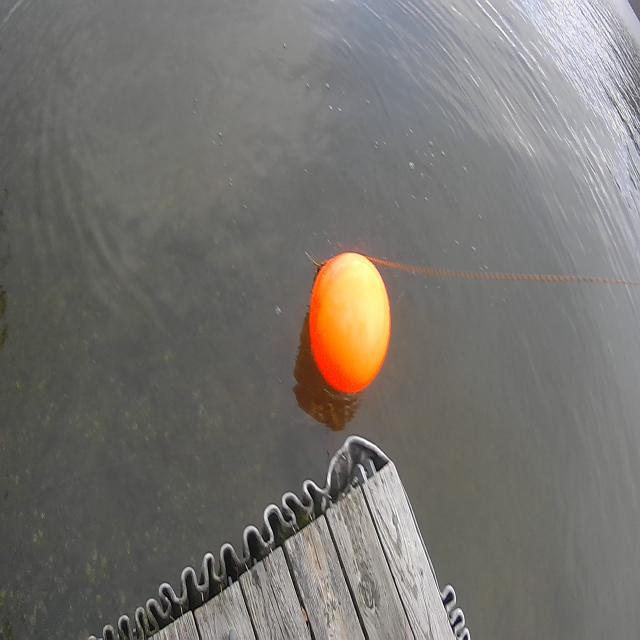Buoy: (298, 235, 399, 414)
